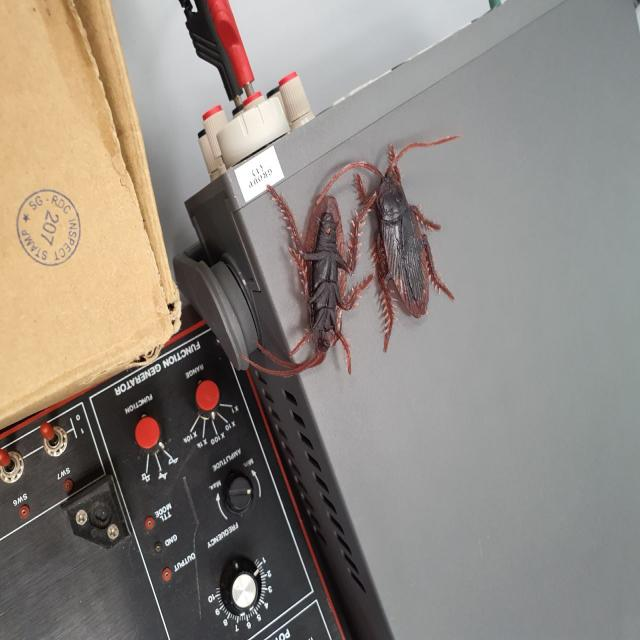Cockroach: (250, 158, 366, 384), (351, 140, 459, 365)
